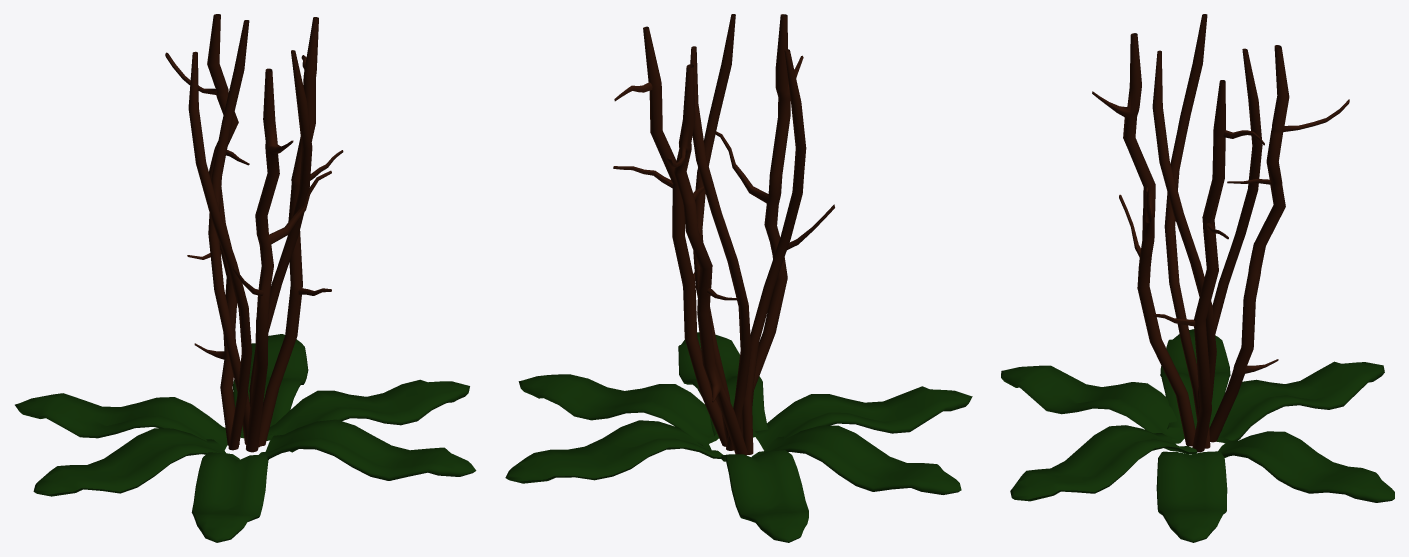
File: Stalks.FBX
The picture shows the model from 3 angles, left to right: view 1: azimuth 30°, elevation 25°; view 2: azimuth 150°, elevation 25°; view 3: azimuth 270°, elevation 25°; orthographic projection.
Parts seen in each view (by area): view 1: Box005, Cylinder002; view 2: Box005, Cylinder002; view 3: Box005, Cylinder002.
Part boxes in pixels (<box>): Box005: <box>15,334,476,542</box>; Cylinder002: <box>165,14,343,452</box>; Box005: <box>505,332,972,542</box>; Cylinder002: <box>613,14,834,455</box>; Box005: <box>1001,329,1394,542</box>; Cylinder002: <box>1092,14,1349,452</box>.
Bounding box in the file's own units: 117 × 105 × 91.38.
